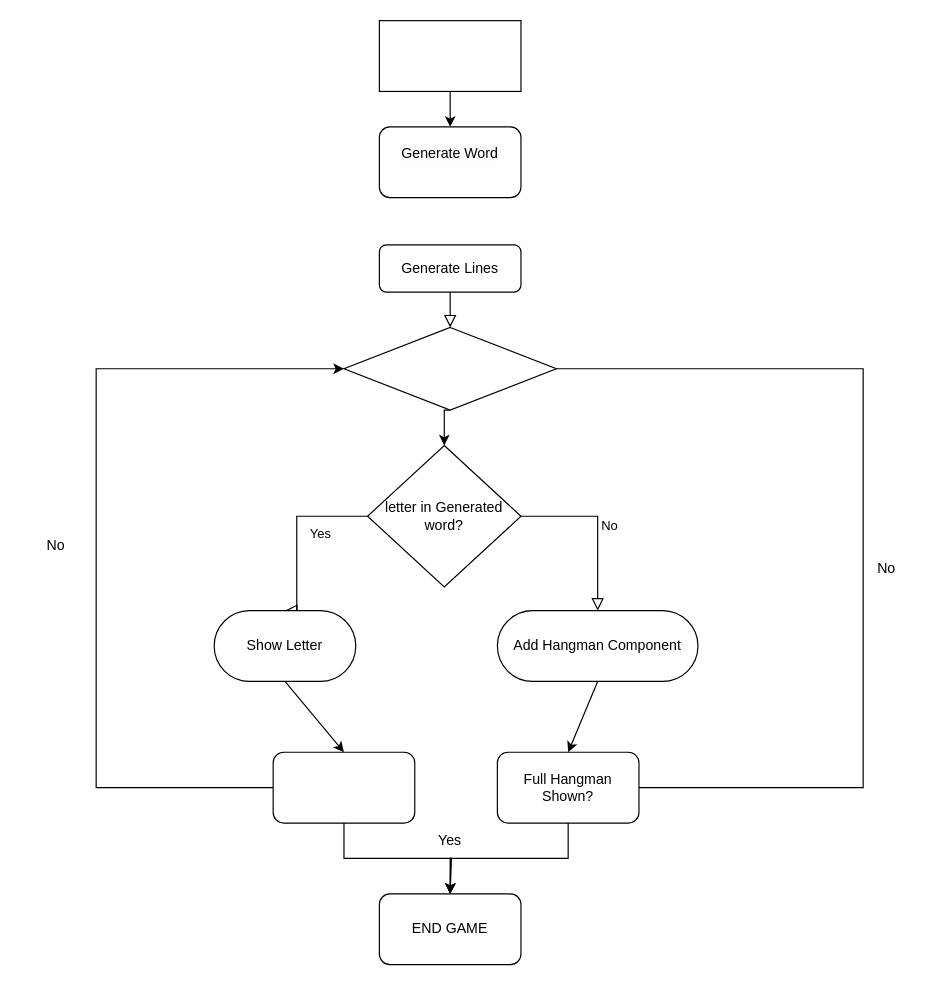
Some shapes in this 942 by 985 pixel diagram are drawn without their labels. The centre of each missing label's shape, as x and y in pixels:
"Full Word Shown?" goes at [343,787].
"Start" goes at [449,55].
"Type in Letter" goes at [449,368].
